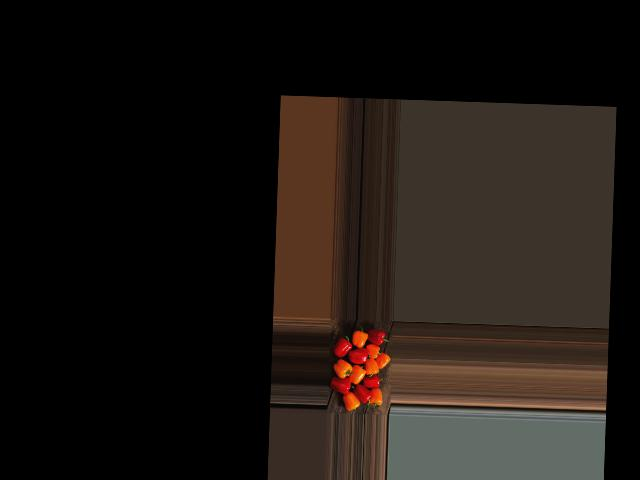bell_pepper: (338, 386, 360, 411)
